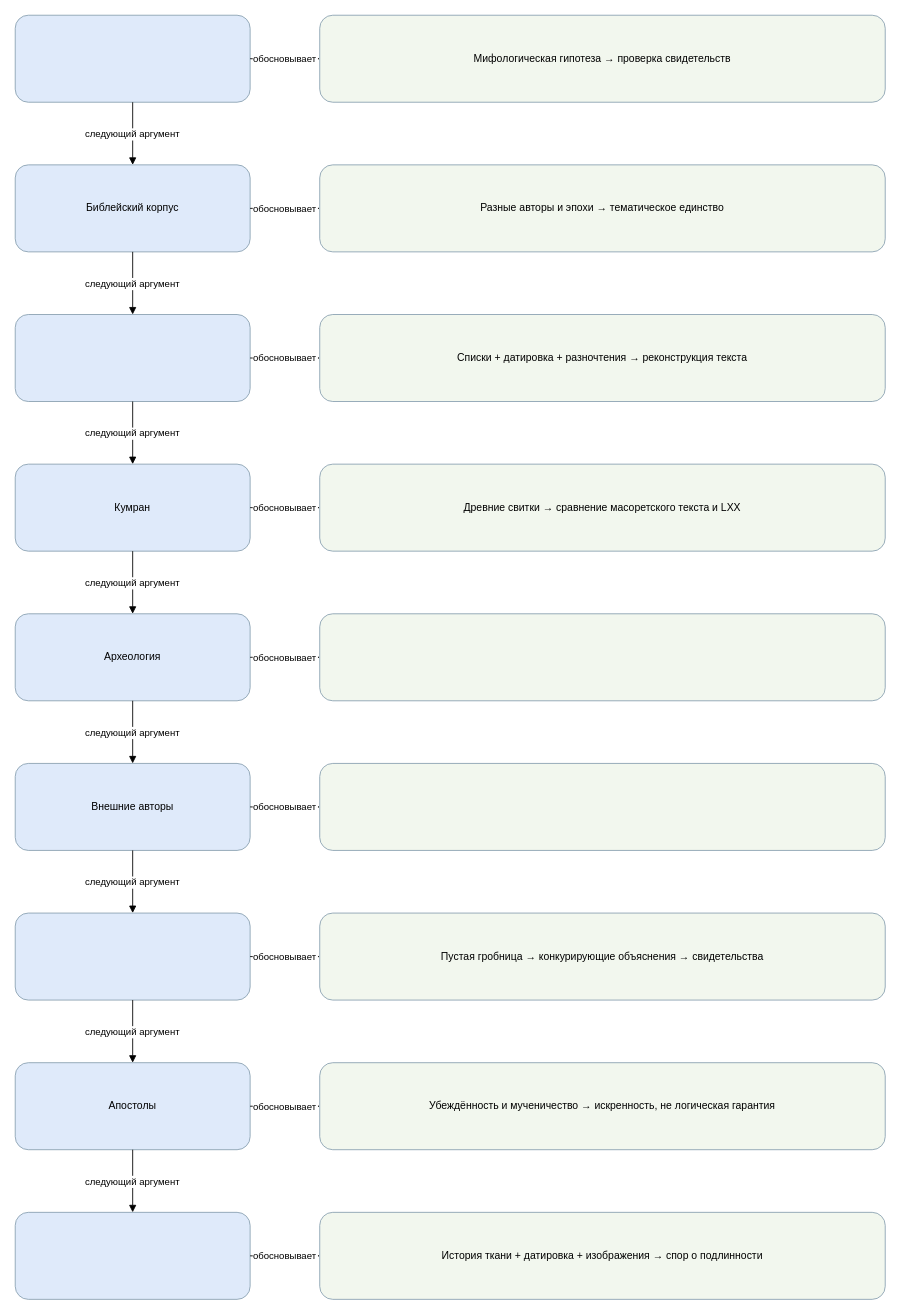
The diagram is 900 pixels wide and 1315 high, and some of its shapes have lost their labels. Here are the shapes that lost their labels. From the top down, the centre of each, then its label:
At [132,58]: "Историческая апологетика".
At [132,358]: "Рукописная традиция".
At [602,657]: "Артефакт → контекст → идентификация → ограниченный вывод".
At [602,806]: "Иосиф Флавий; Тацит; Плиний; Светоний → исторический контекст".
At [132,956]: "Воскресение".
At [132,1255]: "Плащаница".
